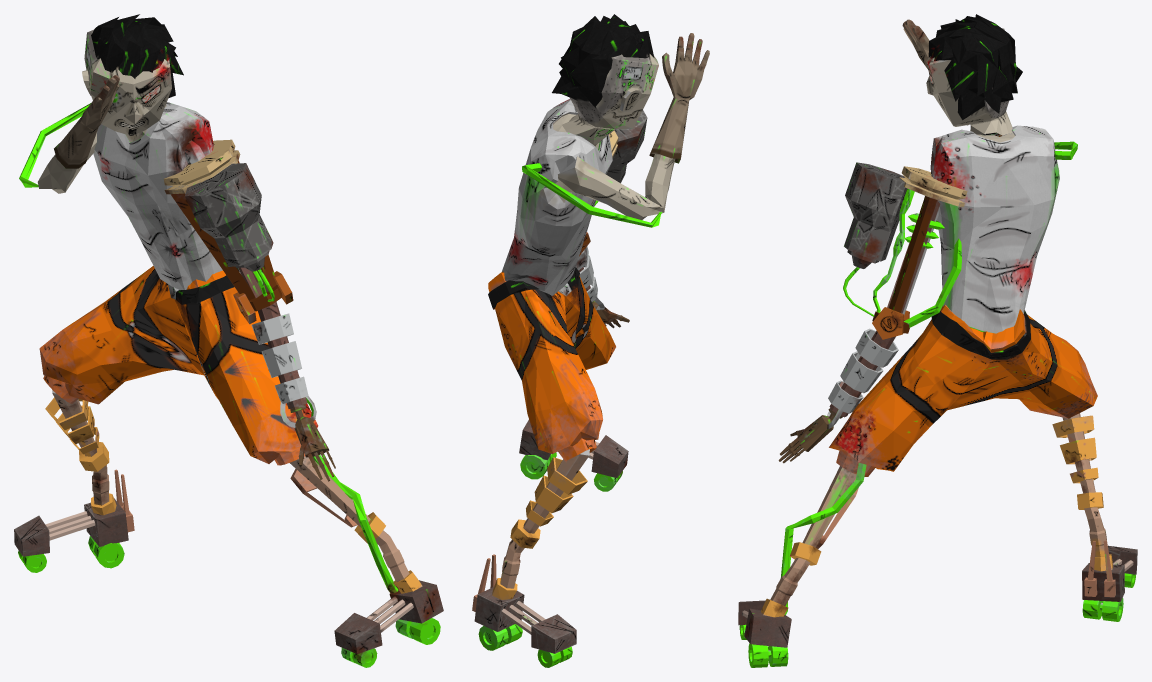
Rendered from CyborgFINALAnimation_000007.obj.
The picture shows the model from 3 angles, left to right: view 1: azimuth 30°, elevation 25°; view 2: azimuth 150°, elevation 25°; view 3: azimuth 270°, elevation 25°; orthographic projection. The views are drawn at different scales.
Visible parts, largest first — view 1: CyborgMesh_Cube.002; view 2: CyborgMesh_Cube.002; view 3: CyborgMesh_Cube.002.
Part boxes in pixels (box(x1,y1,x2,y2)): CyborgMesh_Cube.002: box(14, 14, 443, 667); CyborgMesh_Cube.002: box(472, 14, 709, 667); CyborgMesh_Cube.002: box(738, 14, 1137, 667).
Size of the model in its own units: 4.13 by 8.69 by 5.44.
